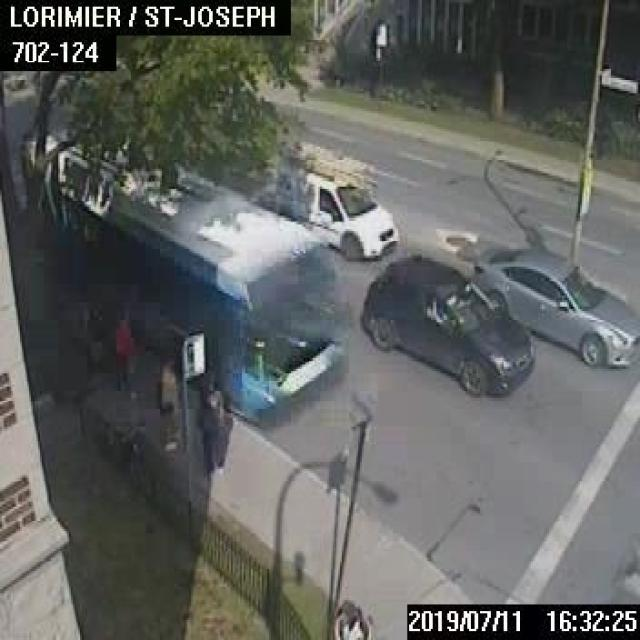bus: (21, 124, 345, 422)
pedestrian: (200, 381, 226, 469), (158, 358, 180, 447), (111, 316, 131, 390)
vehicle: (359, 253, 534, 396), (472, 244, 638, 368), (299, 169, 396, 257)
